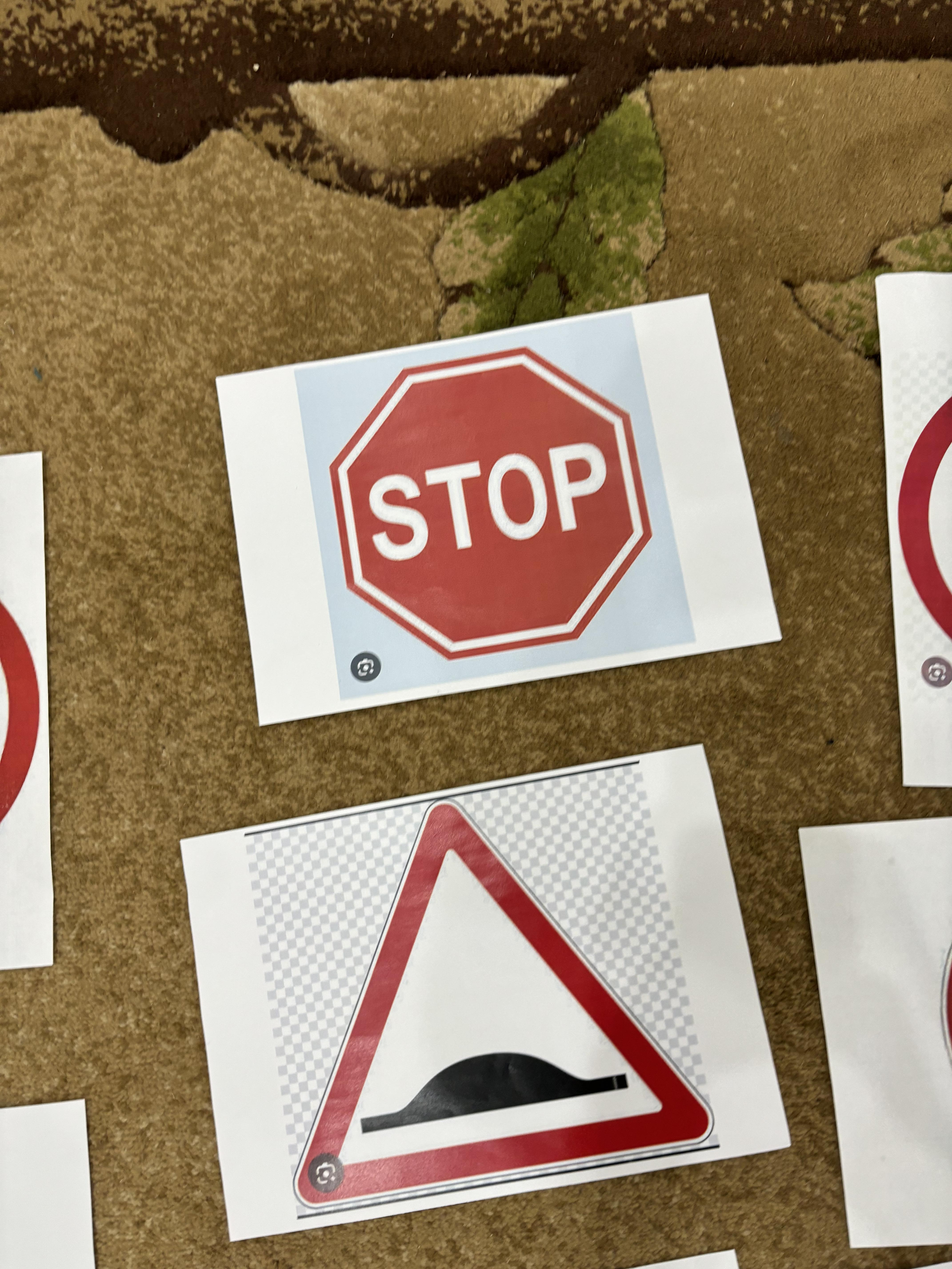Hump: (280, 805, 722, 1215)
Stop: (307, 345, 673, 655)
